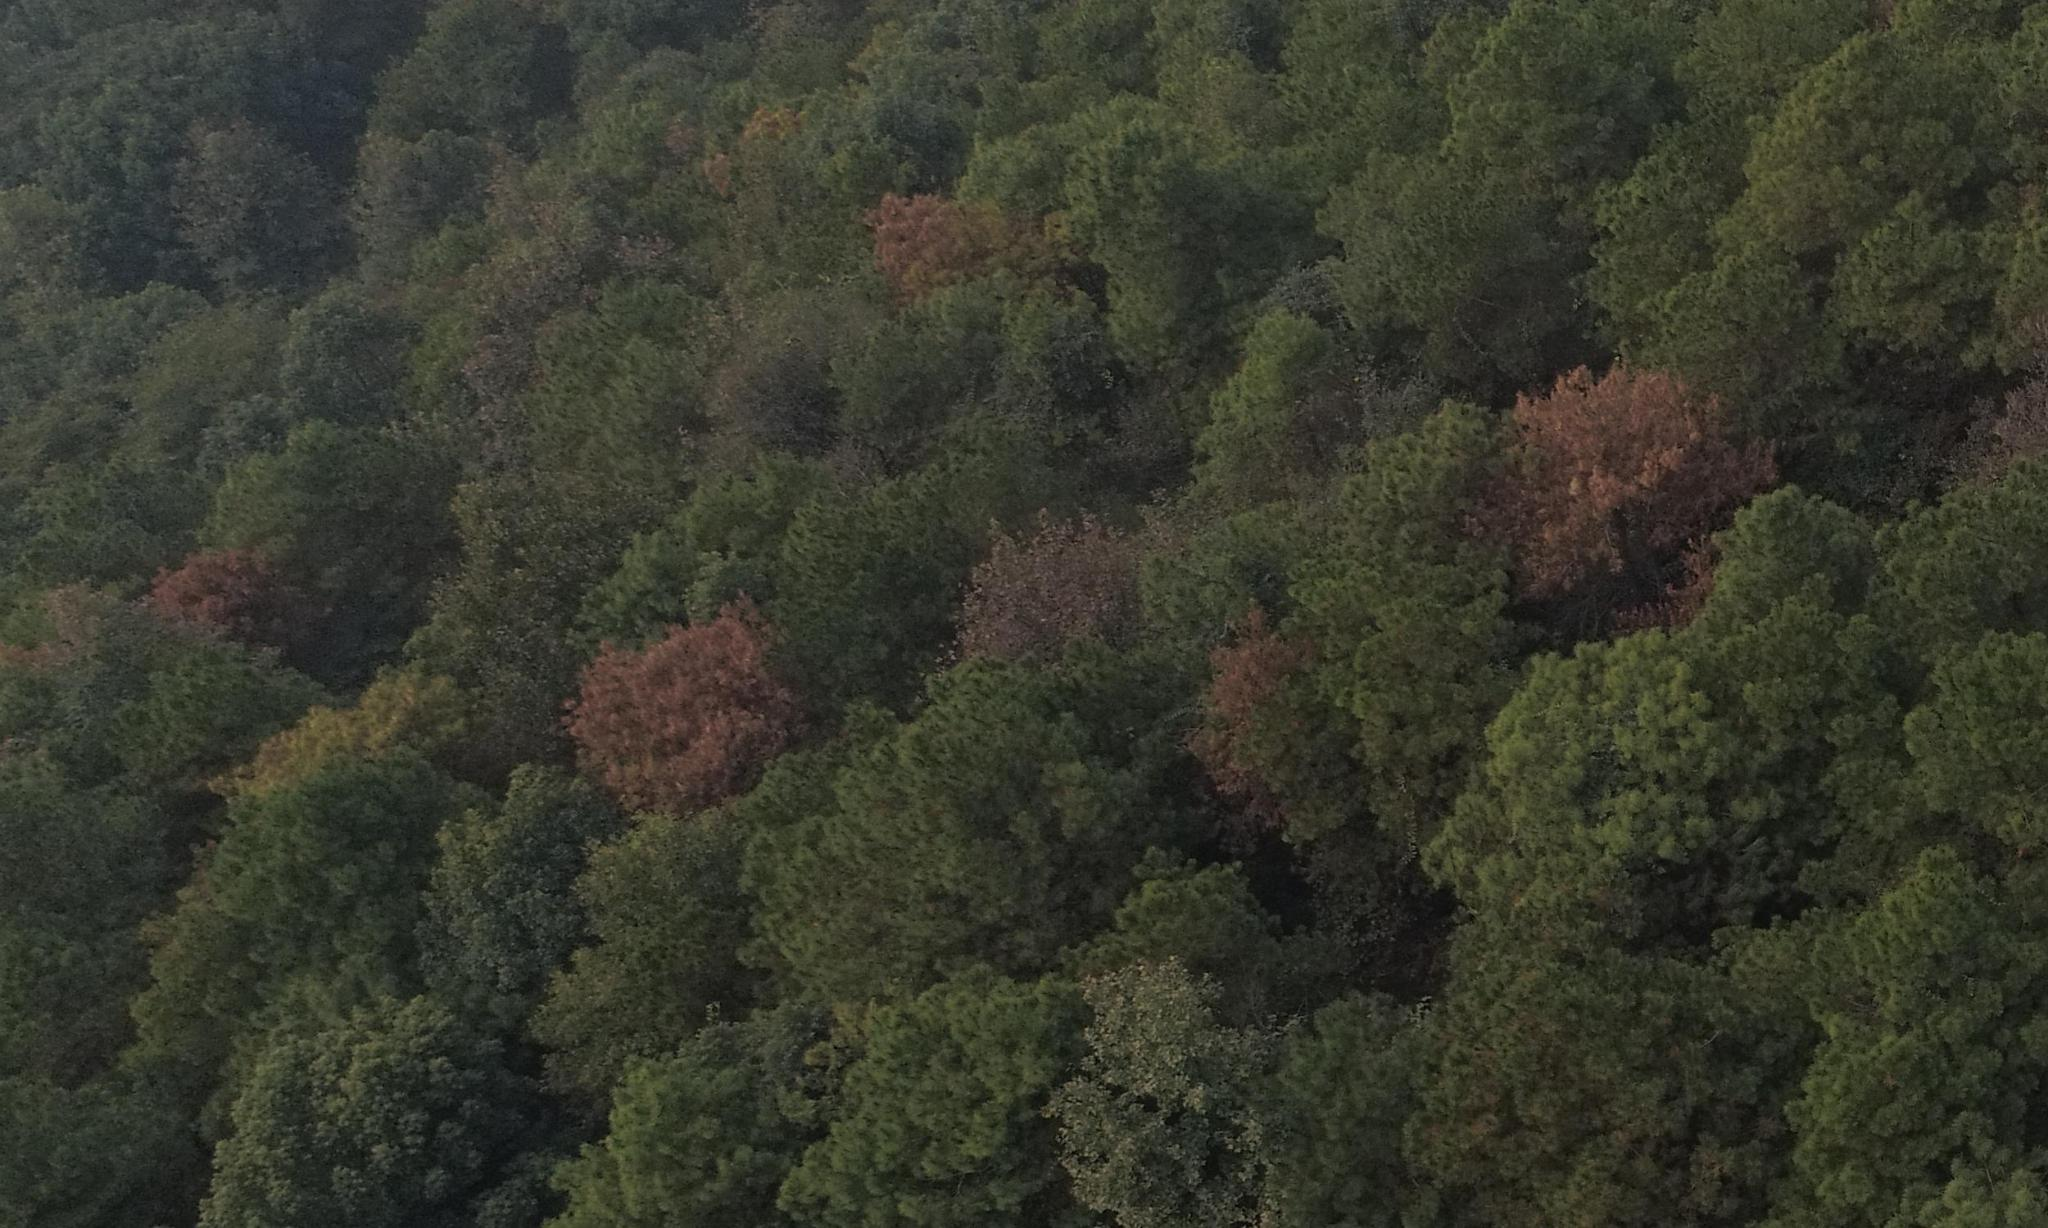heavy: (1488, 336, 1785, 636), (550, 604, 800, 825), (139, 534, 310, 667), (855, 187, 1003, 306)
